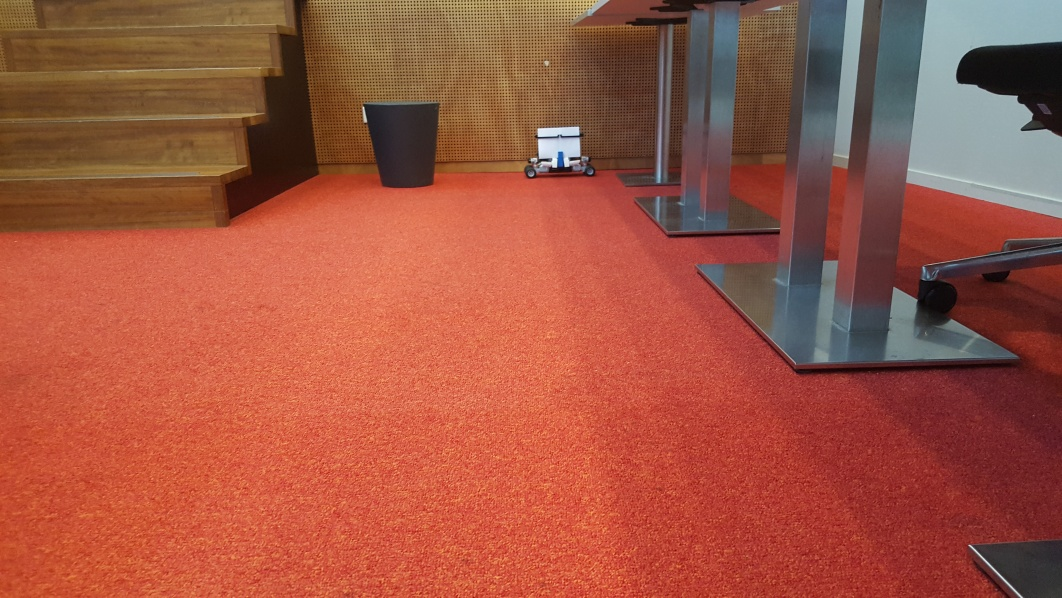car: (524, 125, 595, 179)
